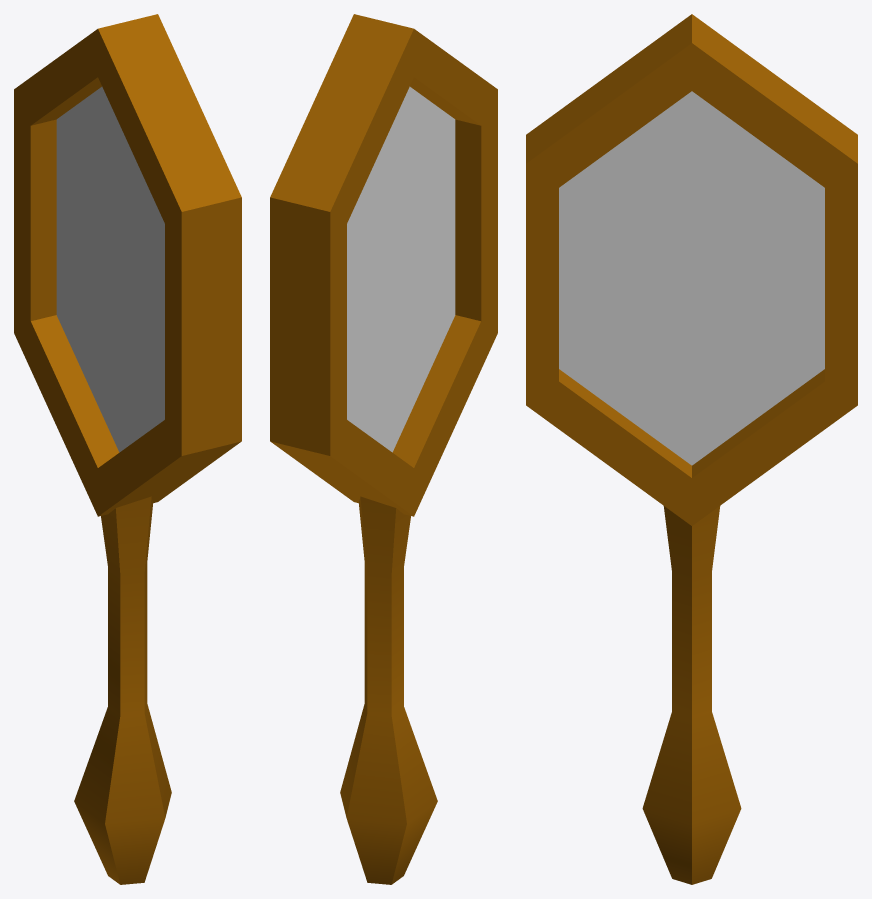
File: mirror.fbx
3 renders of one model, left to right at view 1: azimuth 30°, elevation 25°; view 2: azimuth 150°, elevation 25°; view 3: azimuth 270°, elevation 25°, orthographic.
Parts seen in each view (by area): view 1: mirror; view 2: mirror; view 3: mirror.
Boxes of the visible parts, x1,y1,x2,y2 form: mirror: [14, 14, 241, 884]; mirror: [270, 14, 497, 884]; mirror: [526, 14, 857, 884].
Size of the model in its own units: 2.21 by 21.96 by 7.8.
